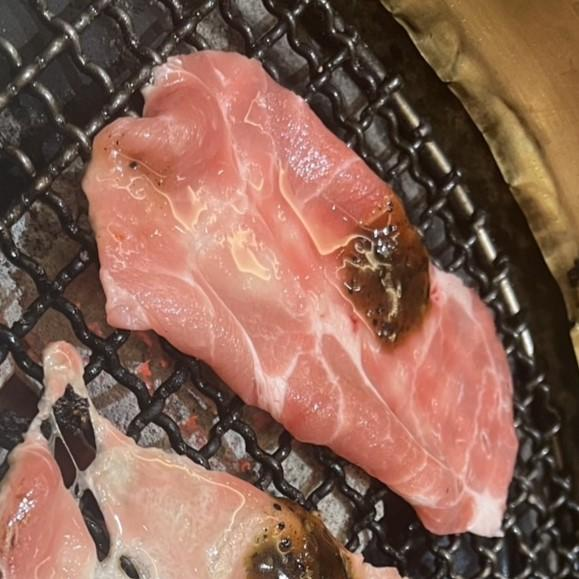Undercooked: (83, 52, 517, 535), (0, 341, 399, 578)
